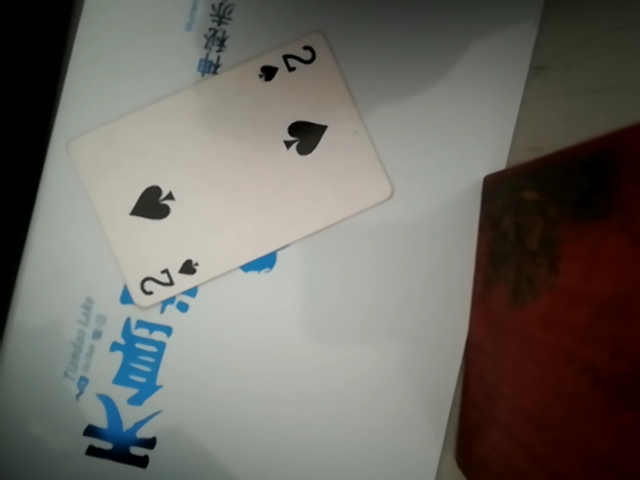ht 2: (82, 21, 379, 304)
